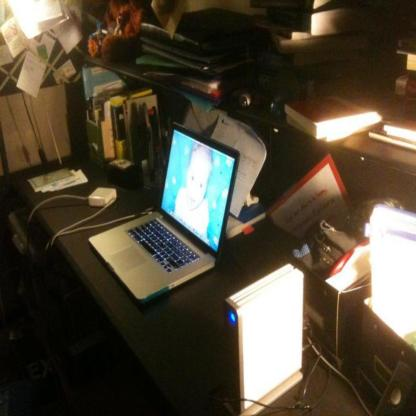board: (87, 122, 240, 303)
